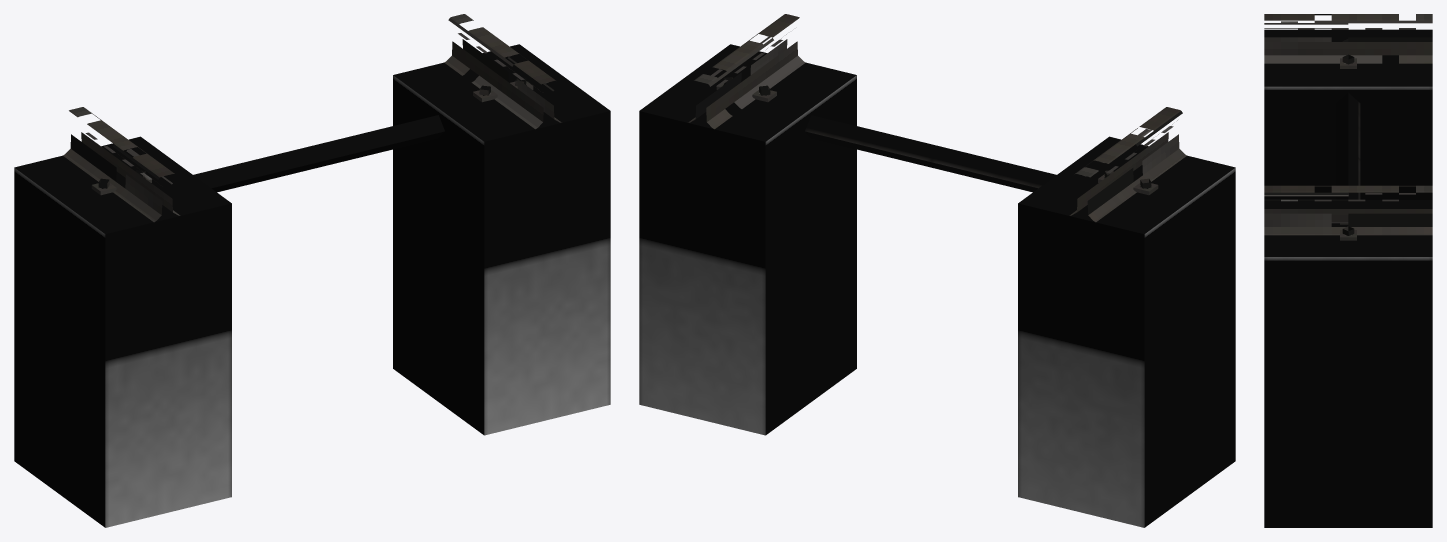
File: drrc_rail_ballastless_1.obj
The picture shows the model from 3 angles, left to right: view 1: azimuth 30°, elevation 25°; view 2: azimuth 150°, elevation 25°; view 3: azimuth 270°, elevation 25°; orthographic projection. The views are drawn at different scales.
Visible parts, largest first — view 1: cuboid, rail; view 2: cuboid, rail; view 3: cuboid, rail.
Part boxes in pixels (x1,y1,x2,y2): cuboid: (14, 44, 610, 527); rail: (63, 14, 561, 222); cuboid: (639, 44, 1235, 527); rail: (688, 14, 1186, 222); cuboid: (1264, 29, 1432, 527); rail: (1264, 14, 1432, 235).
Bounding box in the file's own units: 2 × 1.28 × 0.625.
2 materials, 2 textured.
